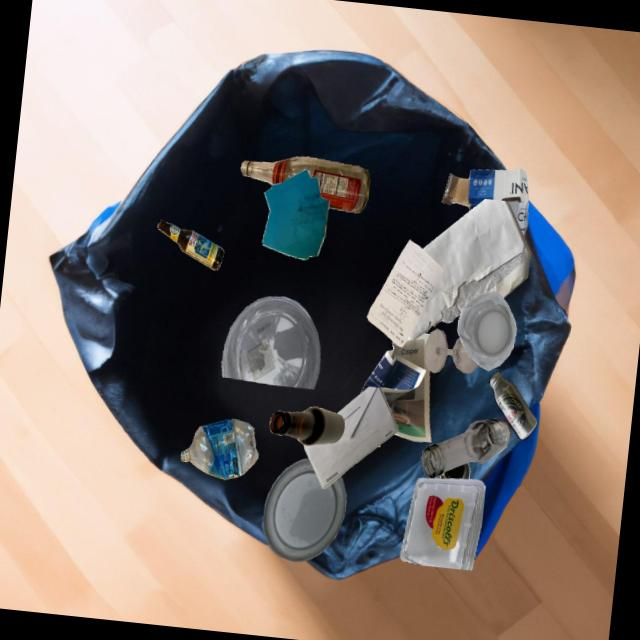cardboard: (441, 168, 528, 237)
glass: (240, 156, 369, 213), (421, 418, 511, 478), (157, 219, 224, 270), (269, 406, 344, 445), (424, 328, 478, 373), (439, 462, 470, 479)
metal: (488, 371, 537, 440)
paper: (409, 198, 530, 339), (303, 386, 398, 488), (366, 239, 443, 347), (360, 333, 431, 442), (262, 169, 329, 259)
plastic: (221, 296, 320, 389), (262, 458, 346, 561), (400, 477, 486, 570), (180, 418, 258, 479), (456, 291, 516, 370)
